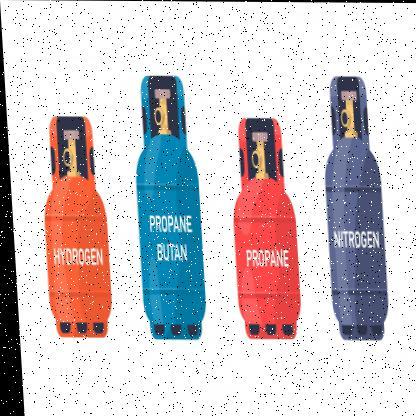gas-tank: (309, 70, 401, 359), (124, 76, 215, 361), (28, 103, 117, 354), (223, 110, 306, 363)
